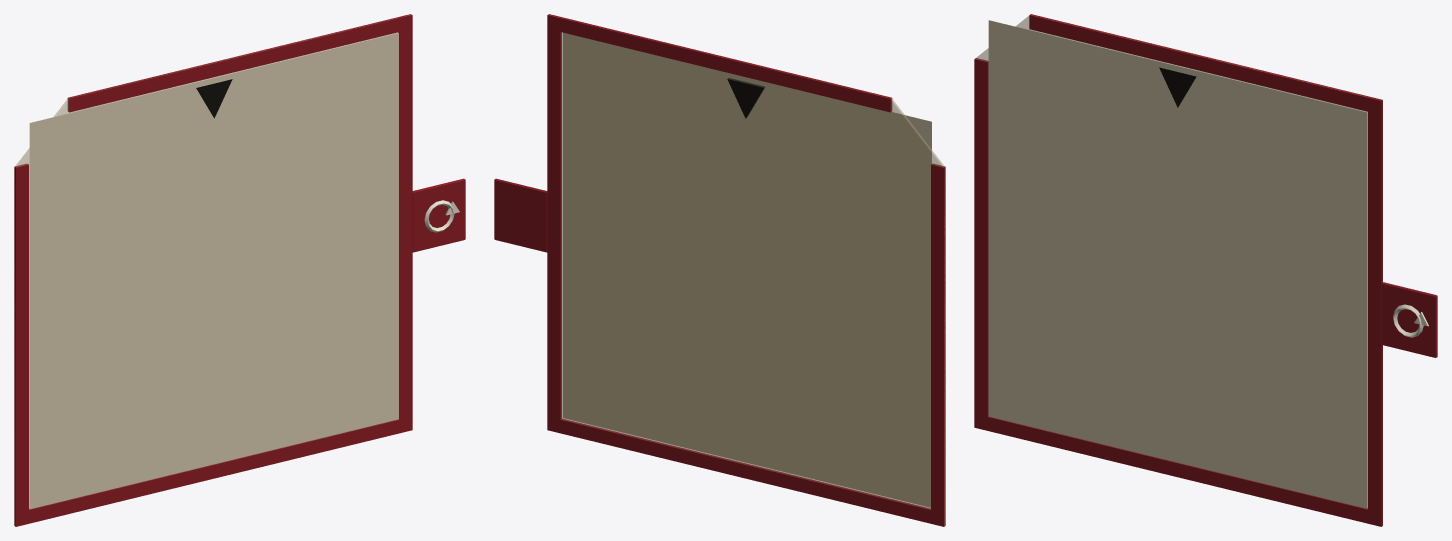
File: acetate_sheet_a.glb
3 views of the same model, side by side, from view 1: azimuth 30°, elevation 25°; view 2: azimuth 150°, elevation 25°; view 3: azimuth 330°, elevation 25° (orthographic). The views are drawn at different scales.
Parts seen in each view (by area): view 1: sheet_print, IA_sheet, IA_flip_tab; view 2: IA_sheet, sheet_print, IA_flip_tab; view 3: sheet_print, IA_sheet, IA_flip_tab.
Part boxes in pixels (bbox=[...]): sheet_print: bbox=[29, 33, 398, 508]; IA_sheet: bbox=[14, 14, 412, 526]; IA_flip_tab: bbox=[412, 178, 465, 252]; IA_sheet: bbox=[547, 14, 945, 526]; sheet_print: bbox=[563, 33, 931, 507]; IA_flip_tab: bbox=[494, 178, 547, 252]; sheet_print: bbox=[988, 20, 1367, 508]; IA_sheet: bbox=[974, 14, 1382, 526]; IA_flip_tab: bbox=[1381, 282, 1437, 357].
Size of the model in its own units: 0.295 by 0.26 by 0.0038.
